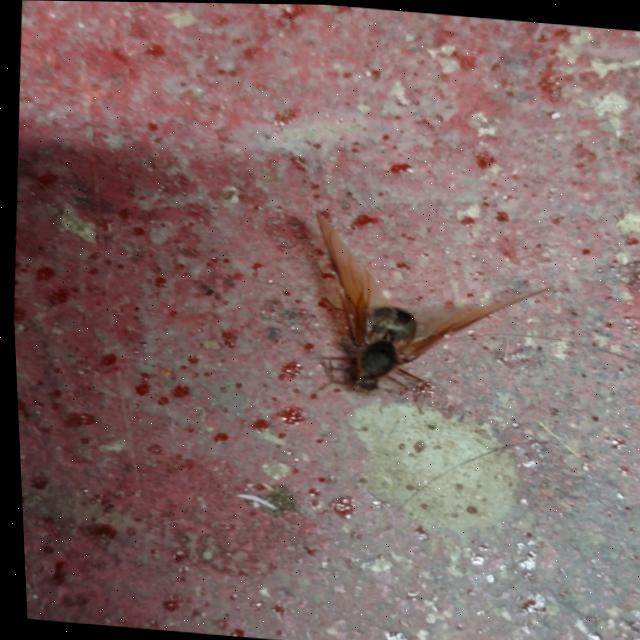Alive-Male-Alate: (299, 213, 560, 428)
